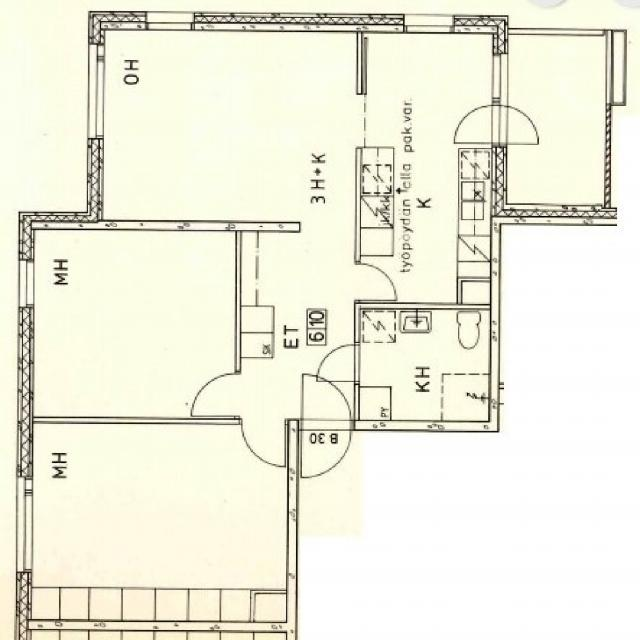door: (301, 420, 350, 478), (301, 372, 350, 429), (453, 105, 507, 144), (492, 105, 546, 144), (192, 374, 242, 416), (242, 419, 285, 467), (317, 344, 360, 381), (354, 264, 398, 300)
